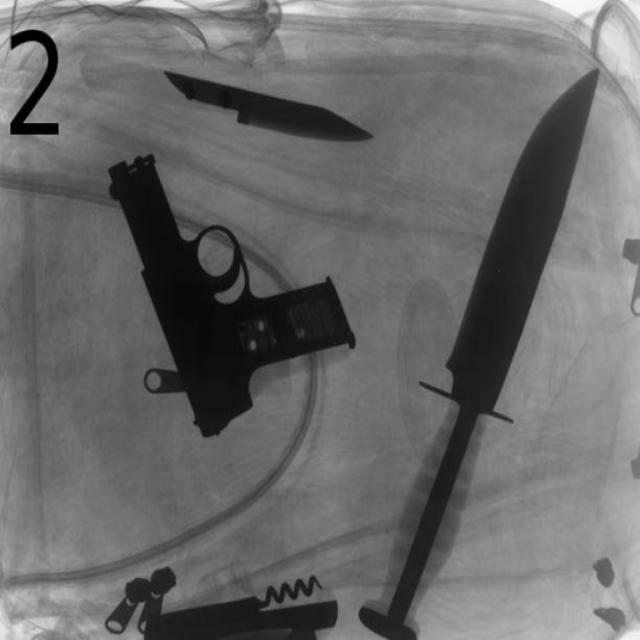GUN: (106, 154, 358, 435)
KNIFE: (349, 46, 580, 625), (156, 60, 373, 154)
